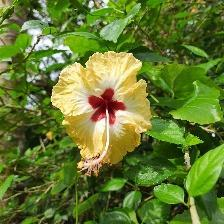hibiscus: (49, 50, 157, 179)
